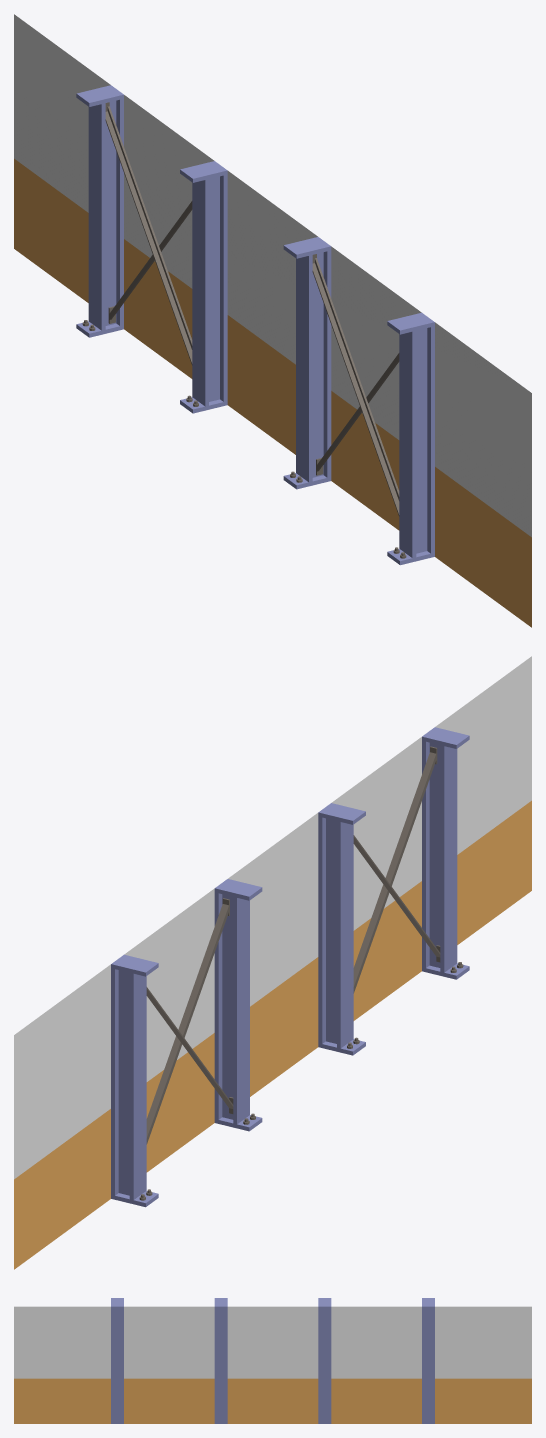
The model's file is wall_right.fbx.
3 views of the same model, one above another, from view 1: azimuth 30°, elevation 25°; view 2: azimuth 150°, elevation 25°; view 3: azimuth 270°, elevation 25° (orthographic). The views are drawn at different scales.
Visible parts, largest first — view 1: wall_R; view 2: wall_R; view 3: wall_R.
Boxes of the visible parts, left/top/right/bottom form: wall_R: left=14, top=14, right=531, bottom=627; wall_R: left=14, top=656, right=531, bottom=1269; wall_R: left=14, top=1298, right=531, bottom=1423.
Bounding box in the file's own units: 77.38 × 500 × 2000.
